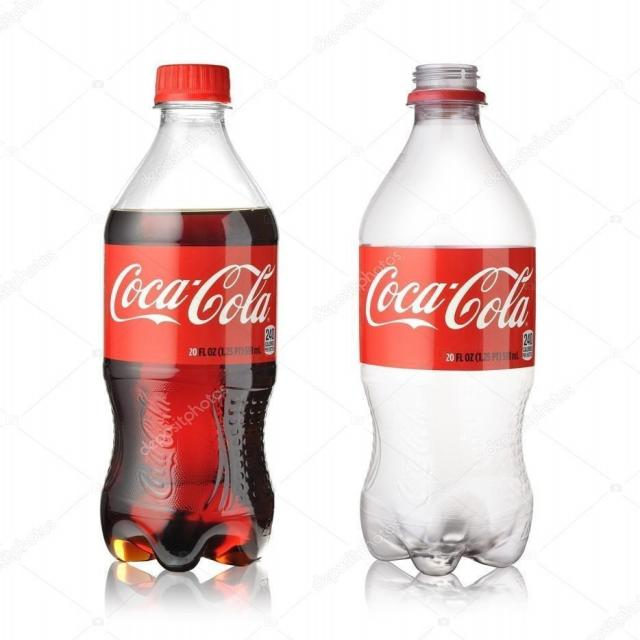bottle-plastic: (351, 57, 545, 582), (94, 57, 288, 579)
